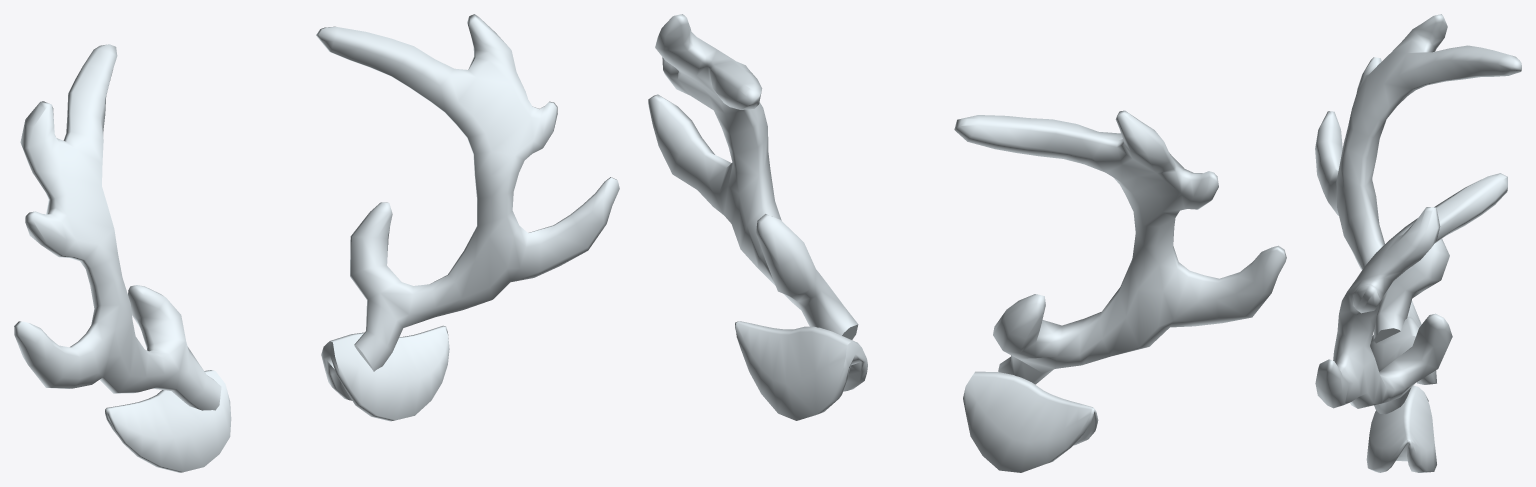
File: Prop_SnowmanElk.glb
3 renders of one model, left to right at view 1: azimuth 30°, elevation 25°; view 2: azimuth 150°, elevation 25°; view 3: azimuth 270°, elevation 25°, orthographic. The views are drawn at different scales.
Visible parts, largest first — view 1: Prop_SnowmanElk; view 2: Prop_SnowmanElk; view 3: Prop_SnowmanElk.
Part boxes in pixels (x1,y1,x2,y2): Prop_SnowmanElk: [14, 14, 619, 472]; Prop_SnowmanElk: [648, 14, 1286, 472]; Prop_SnowmanElk: [1315, 14, 1521, 472].
Size of the model in its own units: 1.1 by 0.6458 by 0.3781.
1 material, 1 textured.
